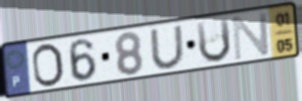6: (66, 36, 99, 84)
8: (113, 30, 145, 77)
N: (231, 10, 272, 62)
O: (30, 42, 66, 90)
U: (194, 15, 233, 65), (148, 23, 188, 70)
